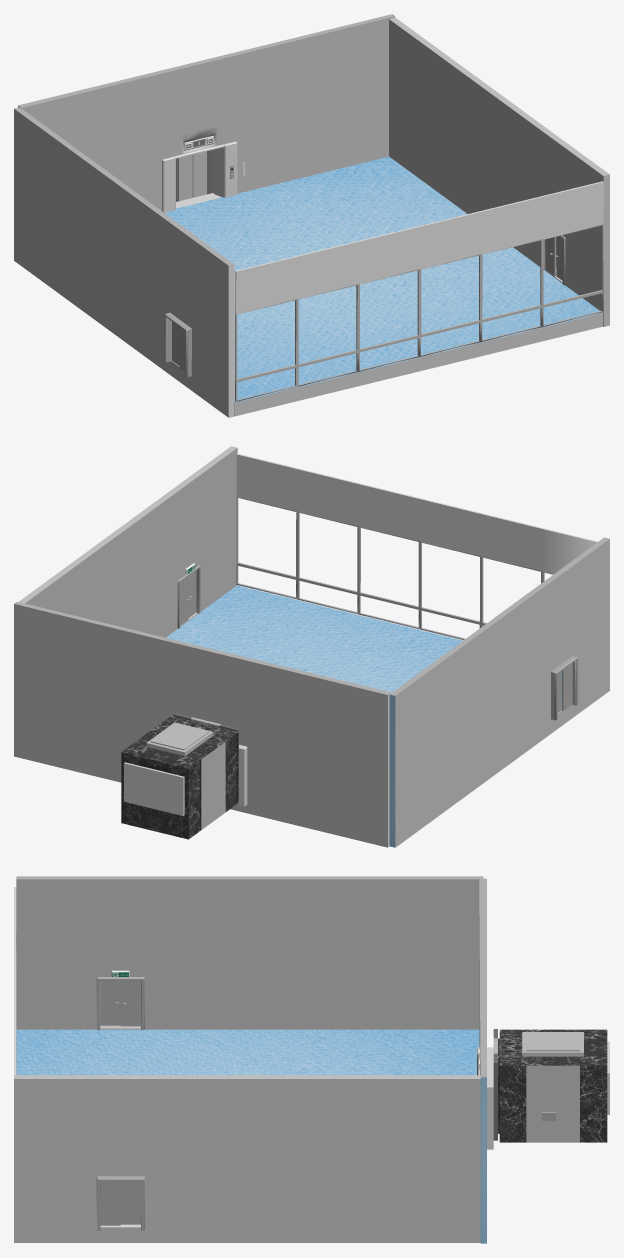
Rendered from elevator-2.fbx.
3 renders of one model, top to bottom at view 1: azimuth 30°, elevation 25°; view 2: azimuth 150°, elevation 25°; view 3: azimuth 270°, elevation 25°, orthographic. The views are drawn at different scales.
Parts seen in each view (by area): view 1: Library__1_, door, door_r, exit_1.001, door_l; view 2: Library__1_, Elevator, mirror, exit_1.001, door; view 3: Library__1_, Elevator, exit_leftdoor.001, exit_rightdoor.001, exit_rightdoor_1.001, exit_leftdoor_1.001, door, exit_1_1.001, exit_1.001.
Boxes of the visible parts, bbox=[...] form: Library__1_: bbox=[14, 14, 609, 417]; door: bbox=[162, 141, 237, 212]; door_r: bbox=[192, 149, 213, 197]; exit_1.001: bbox=[164, 312, 191, 377]; door_l: bbox=[176, 155, 192, 201]; Library__1_: bbox=[14, 446, 609, 847]; Elevator: bbox=[121, 716, 238, 839]; mirror: bbox=[124, 762, 184, 815]; exit_1.001: bbox=[551, 656, 578, 720]; door: bbox=[236, 744, 247, 806]; Library__1_: bbox=[14, 876, 486, 1243]; Elevator: bbox=[498, 1029, 607, 1142]; exit_leftdoor.001: bbox=[120, 980, 140, 1026]; exit_rightdoor.001: bbox=[100, 980, 120, 1025]; exit_rightdoor_1.001: bbox=[100, 1181, 120, 1225]; exit_leftdoor_1.001: bbox=[120, 1181, 140, 1224]; door: bbox=[477, 1047, 493, 1149]; exit_1_1.001: bbox=[96, 1176, 144, 1230]; exit_1.001: bbox=[96, 977, 144, 1030].
Size of the model in its own units: 6402 by 2387 by 7758.
